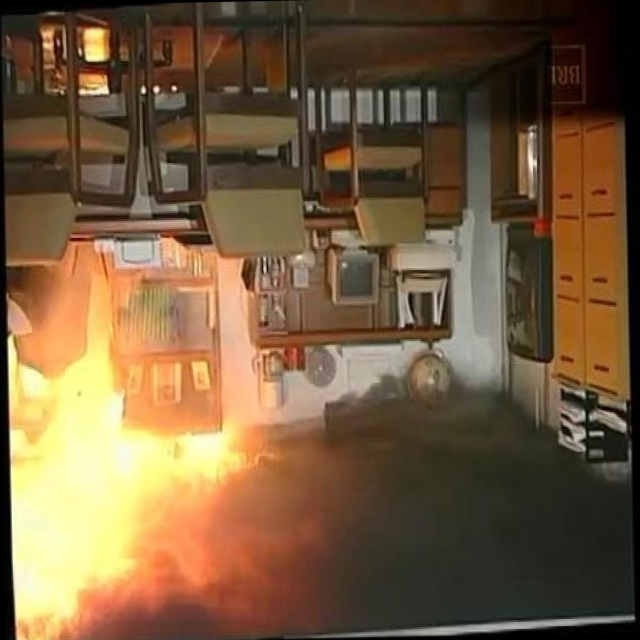fire: (1, 369, 210, 640)
smoke: (239, 392, 626, 621)
